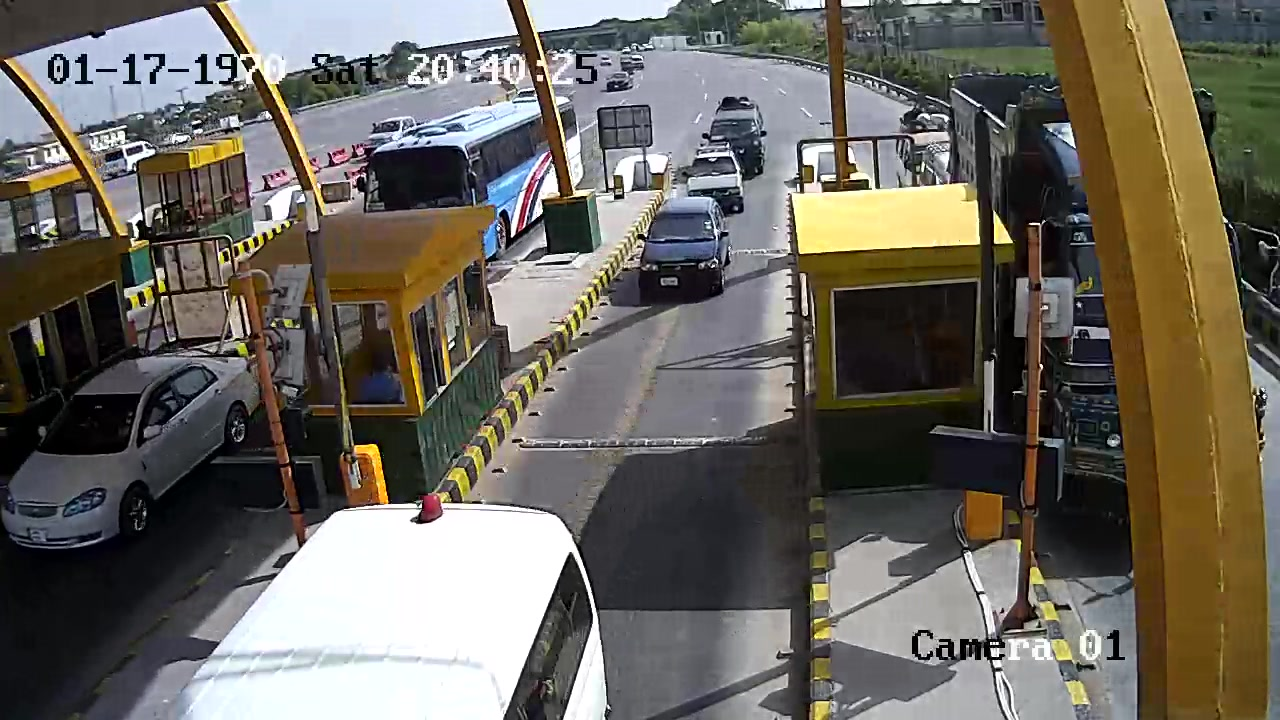F1: (632, 196, 743, 320)
